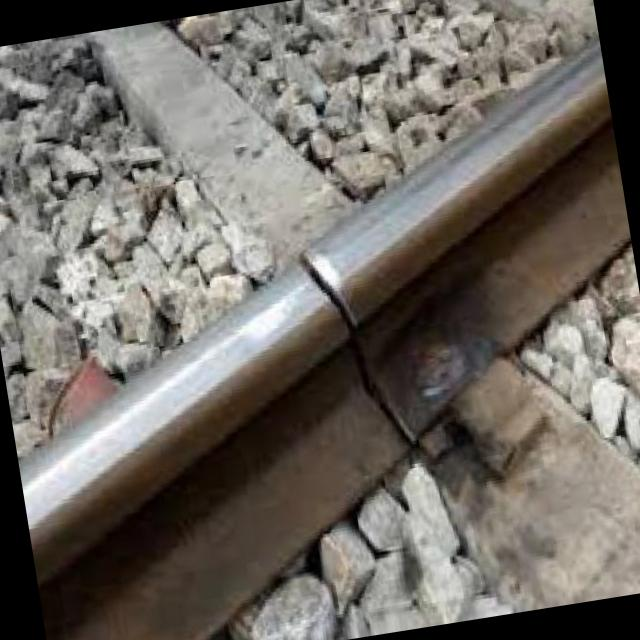defective: (0, 62, 559, 619)
